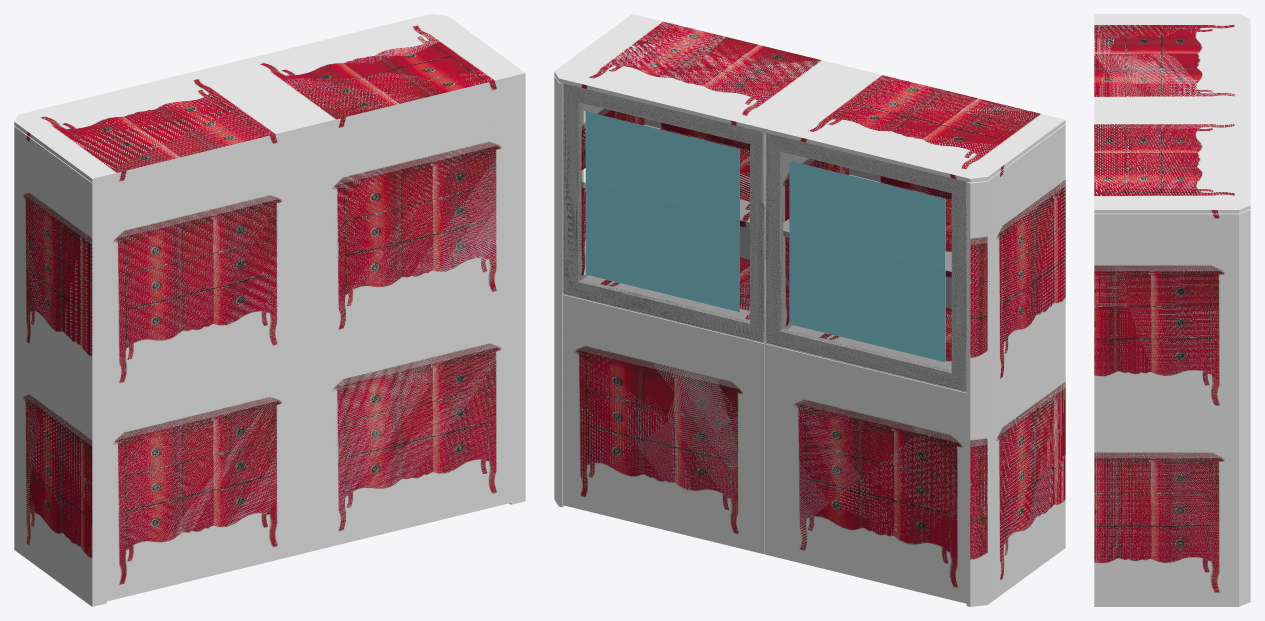
3 renders of one model, left to right at view 1: azimuth 30°, elevation 25°; view 2: azimuth 150°, elevation 25°; view 3: azimuth 270°, elevation 25°, orthographic. The views are drawn at different scales.
Parts seen in each view (by area): view 1: mesh1_mesh1-geometry; view 2: mesh1_mesh1-geometry, mesh5_mesh5-geometry, mesh4_mesh4-geometry, mesh6_mesh6-geometry, mesh7_mesh7-geometry, mesh2_mesh2-geometry, mesh3_mesh3-geometry; view 3: mesh1_mesh1-geometry.
Boxes of the visible parts, x1=… form: mesh1_mesh1-geometry: x1=14, y1=14, x2=525, y2=606; mesh1_mesh1-geometry: x1=554, y1=14, x2=1065, y2=606; mesh5_mesh5-geometry: x1=789, y1=160, x2=945, y2=362; mesh4_mesh4-geometry: x1=585, y1=111, x2=739, y2=312; mesh6_mesh6-geometry: x1=563, y1=84, x2=761, y2=341; mesh7_mesh7-geometry: x1=767, y1=133, x2=966, y2=390; mesh2_mesh2-geometry: x1=563, y1=83, x2=765, y2=342; mesh3_mesh3-geometry: x1=765, y1=132, x2=966, y2=391; mesh1_mesh1-geometry: x1=1094, y1=14, x2=1250, y2=606.
Size of the model in its own units: 0.7064 by 0.6665 by 0.2382.
